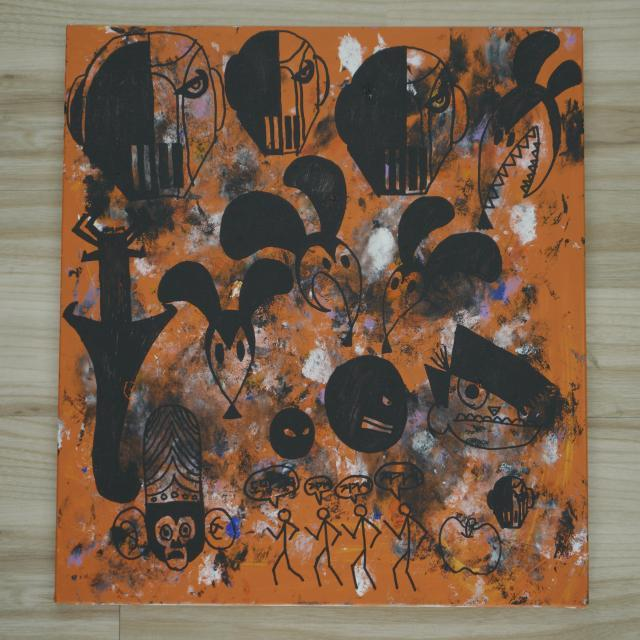painting: (56, 27, 587, 606)
